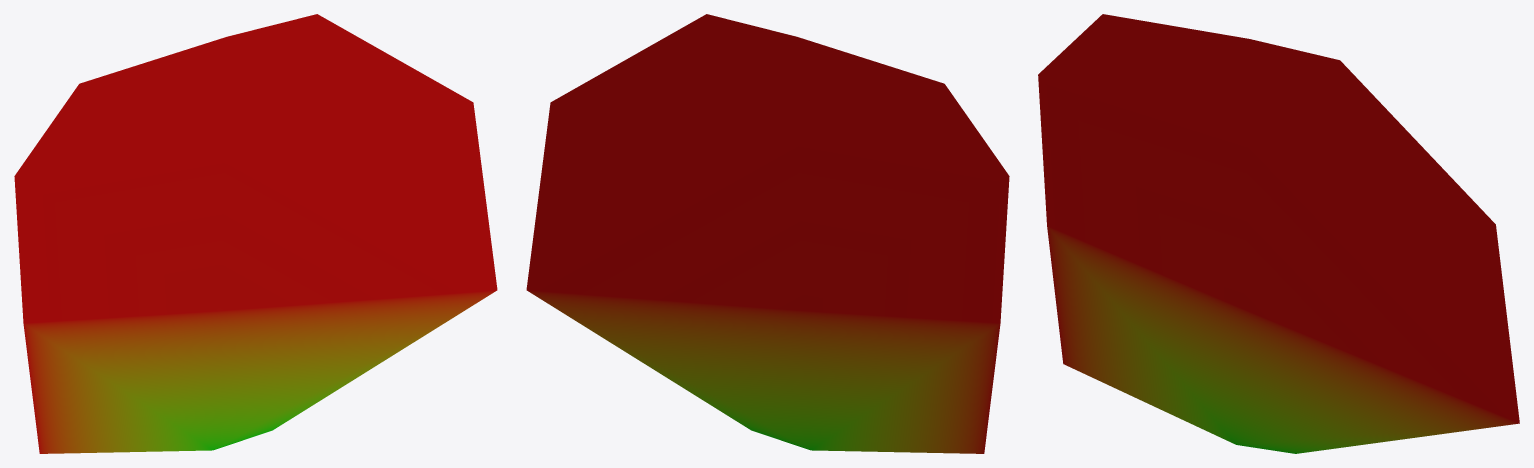
Rendered from Black Locust_LOD4_Var12.fbx.
3 views of the same model, side by side, from view 1: azimuth 30°, elevation 25°; view 2: azimuth 150°, elevation 25°; view 3: azimuth 330°, elevation 25° (orthographic).
Visible parts, largest first — view 1: _q8bo_Var12_LOD4; view 2: _q8bo_Var12_LOD4; view 3: _q8bo_Var12_LOD4.
Part boxes in pixels (bbox=[...]): _q8bo_Var12_LOD4: bbox=[14, 14, 497, 453]; _q8bo_Var12_LOD4: bbox=[526, 14, 1009, 453]; _q8bo_Var12_LOD4: bbox=[1038, 14, 1519, 453].
Size of the model in its own units: 185 by 150 by 0.00041.
